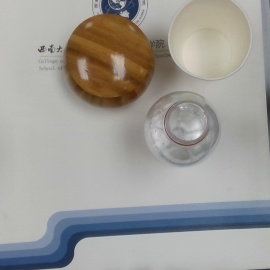bottle: (146, 92, 220, 167)
chess: (64, 14, 156, 107)
cup: (168, 1, 253, 79)
